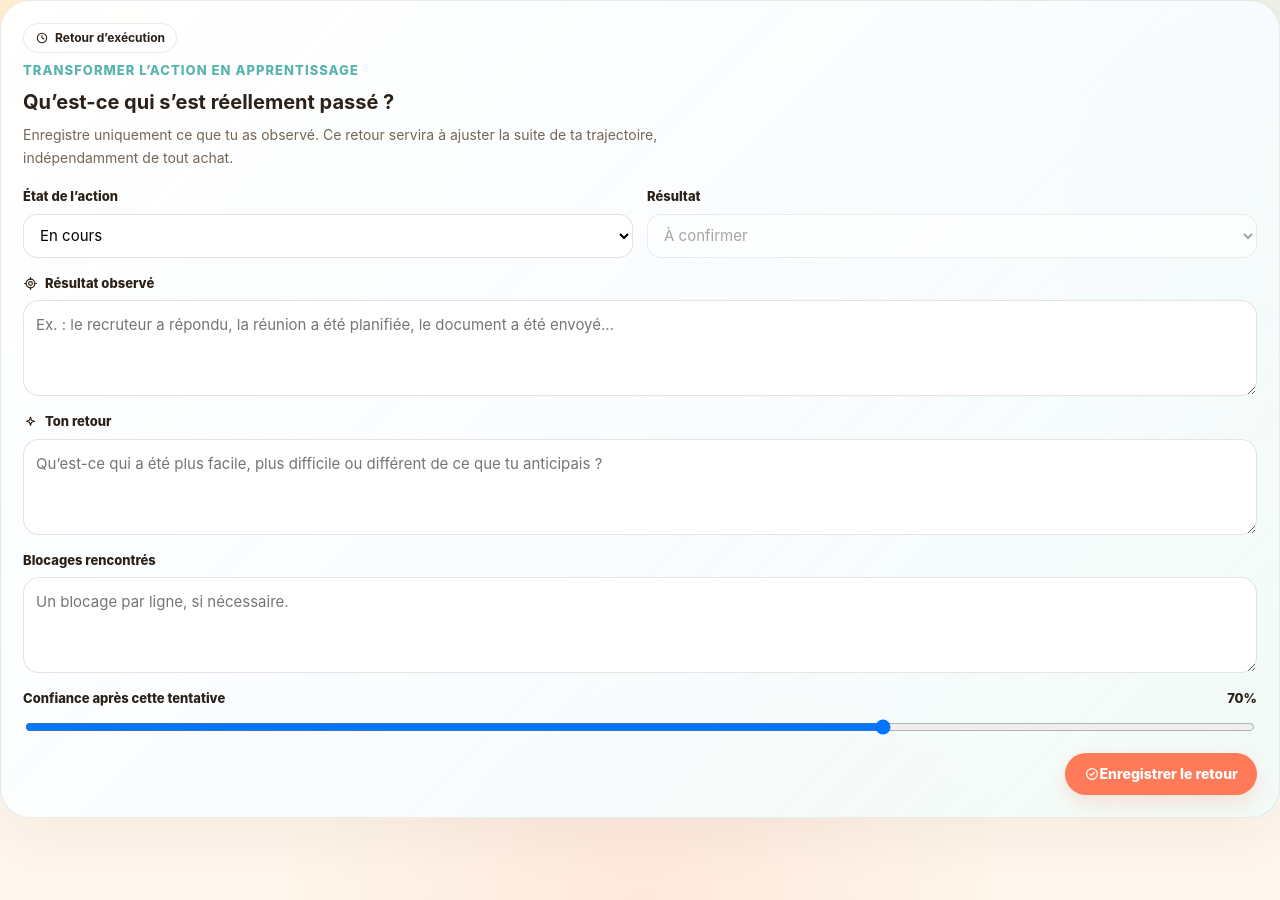
Scenario: ExecutionFeedbackForm › forces a known outcome before submitting a completed action
This screenshot has width=1280, height=900.
Select "Terminée" in the dropdown labelled "État de l’action" at (328, 236), box [23, 214, 633, 258]
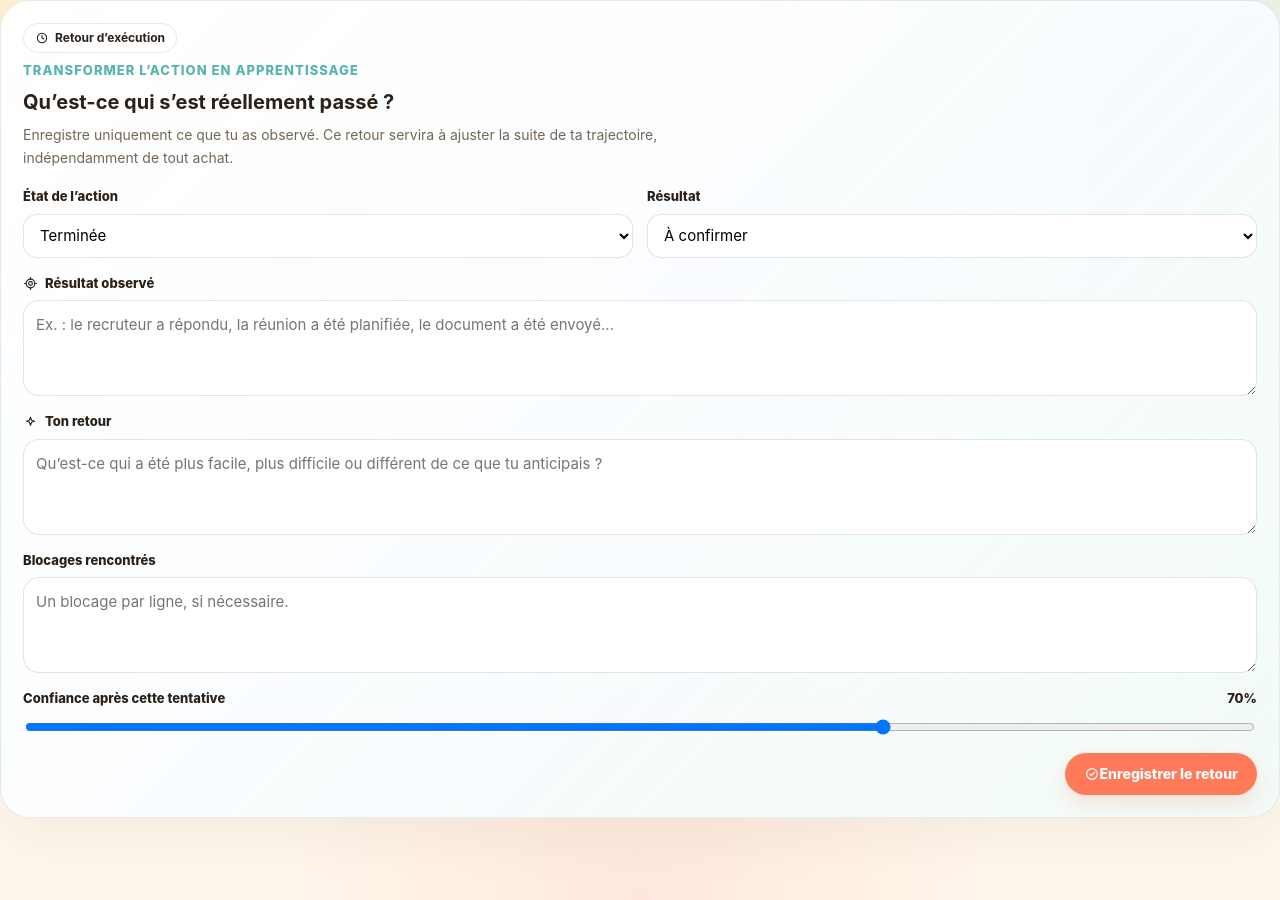
Click the button "Enregistrer le retour" at (1161, 774), box [1065, 753, 1257, 795]
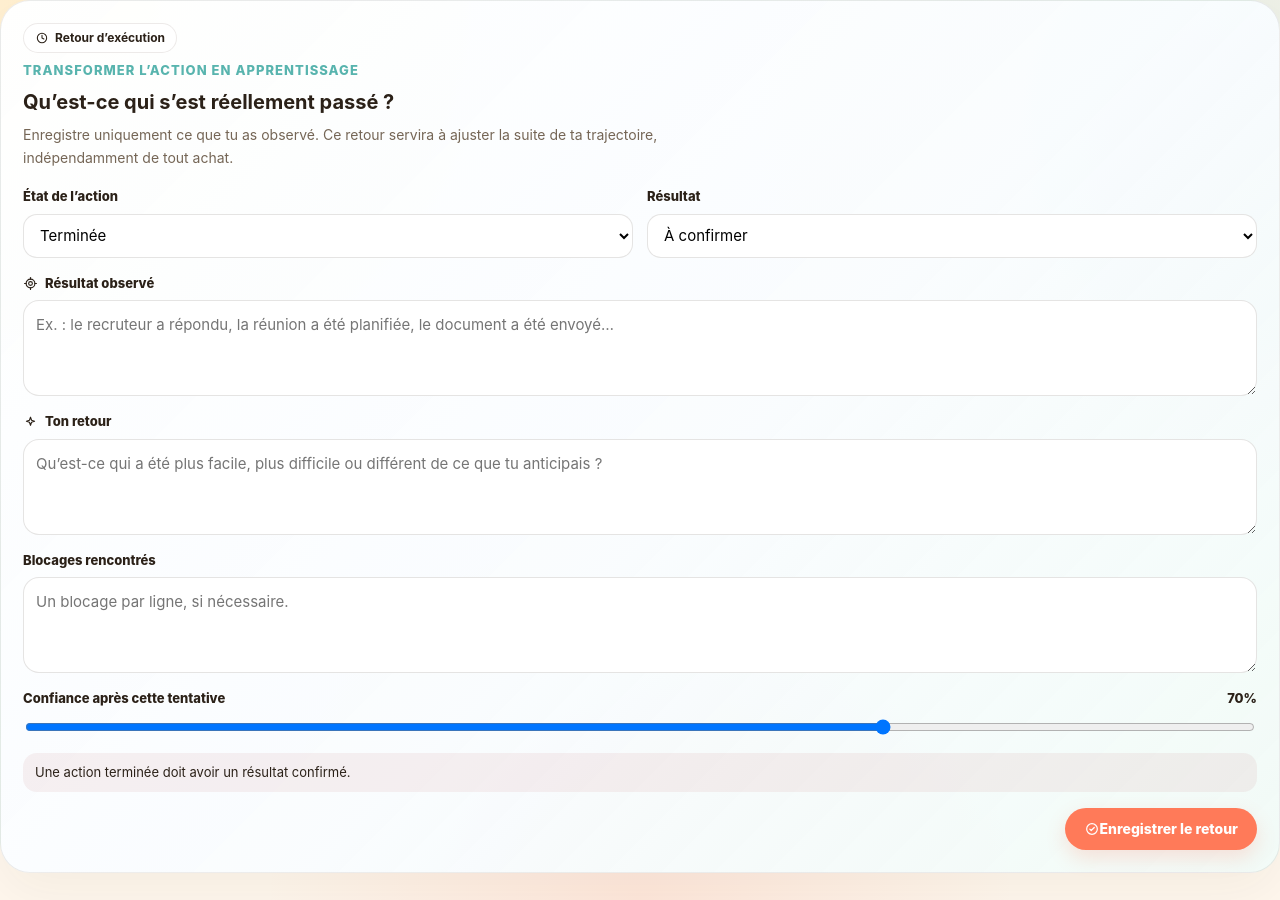
Check: the message reads "Une action terminée doit avoir un résultat confirmé.", box [35, 764, 350, 780]
